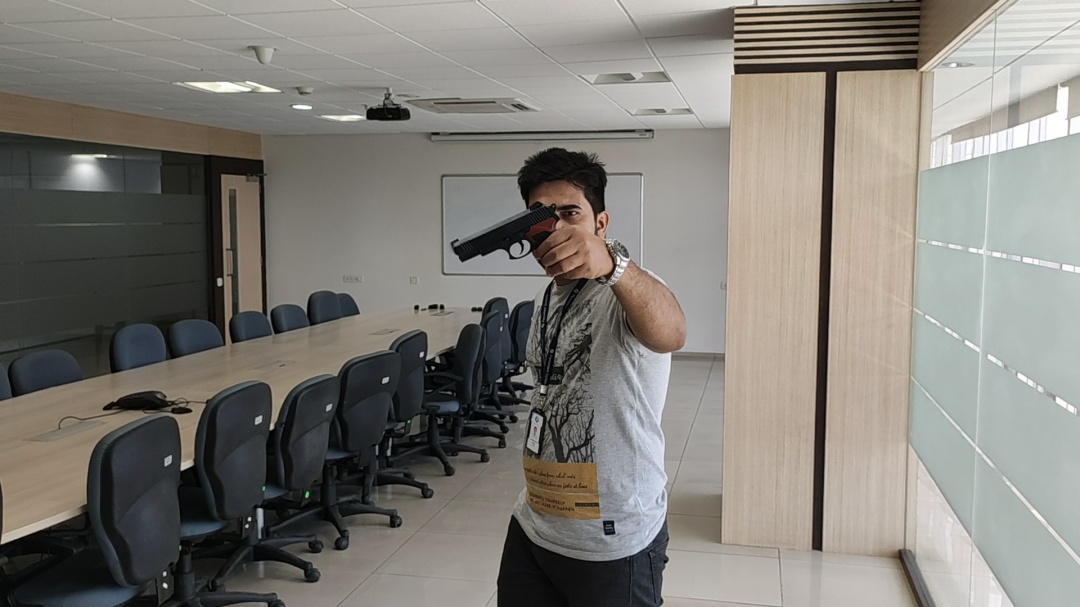gun: (450, 201, 561, 260)
